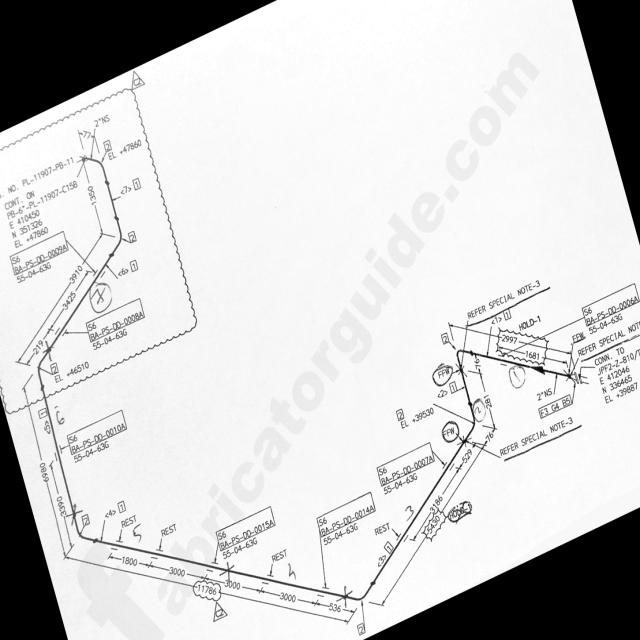Item number: (65, 406, 127, 458), (215, 502, 275, 553), (10, 229, 70, 279), (317, 489, 376, 539), (375, 440, 435, 489), (86, 295, 146, 343), (582, 280, 639, 330), (495, 306, 511, 323), (132, 174, 143, 191), (383, 539, 394, 556), (448, 379, 459, 395), (117, 499, 127, 515), (440, 330, 450, 346), (130, 258, 139, 274), (103, 138, 112, 154), (356, 622, 365, 637), (50, 362, 59, 376), (128, 230, 136, 244), (395, 408, 403, 422)
Measrement: (64, 552, 349, 624), (15, 224, 103, 363), (26, 392, 71, 556), (380, 509, 446, 608), (498, 344, 569, 365), (476, 361, 496, 433), (474, 425, 497, 455)
Symbol: (81, 148, 111, 189), (70, 504, 98, 547), (106, 213, 126, 267), (454, 346, 466, 375), (570, 368, 588, 387)
Weld number: (88, 279, 113, 315)
other: (2, 154, 78, 251), (499, 412, 583, 462), (466, 278, 547, 325), (575, 311, 638, 360), (594, 339, 639, 407), (221, 535, 259, 563), (399, 403, 436, 431), (53, 357, 91, 384), (108, 135, 145, 161), (90, 328, 128, 353), (71, 440, 110, 463), (383, 472, 419, 495), (161, 521, 177, 539), (374, 520, 391, 536), (272, 547, 287, 564)
